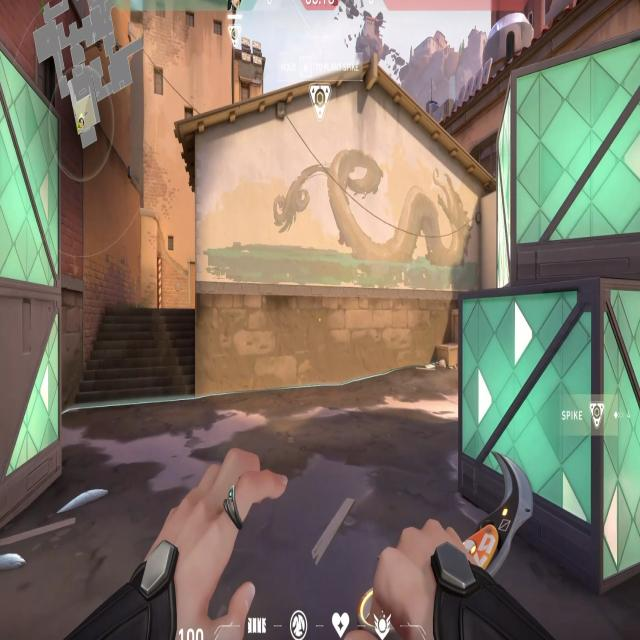B_Site_Box: (463, 49, 640, 568)
